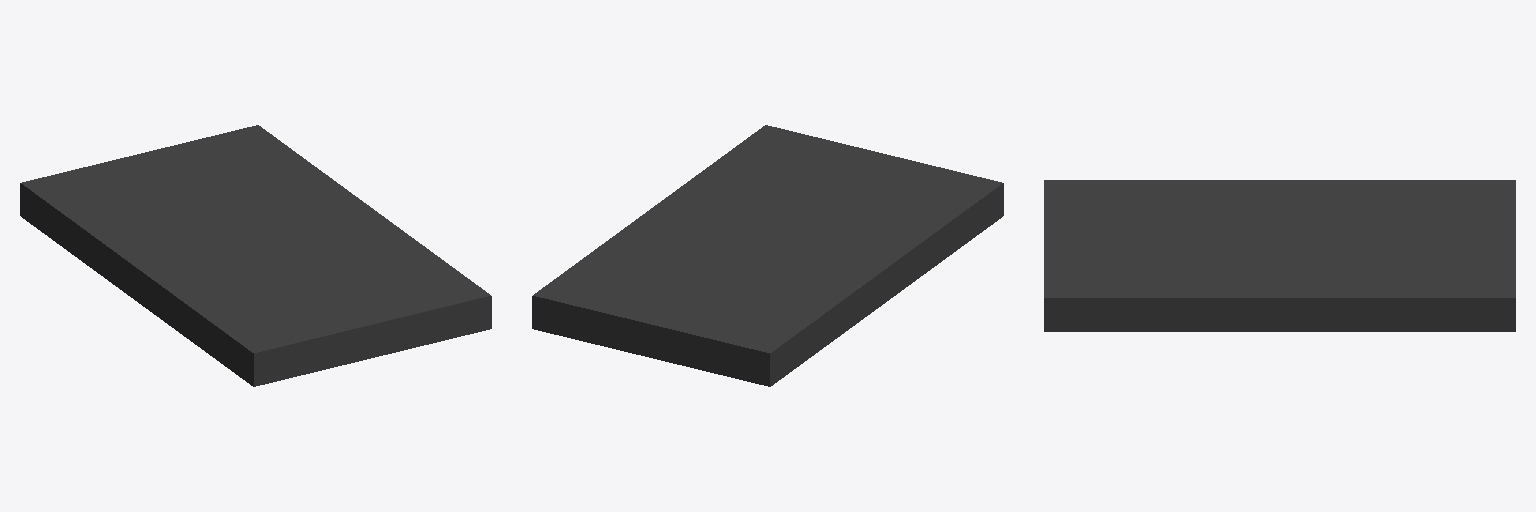
URDF robot description (box.urdf):
<?xml version="1.0" ?>
<robot name="box.urdf">
  <link name="baseLink">
    <contact>
      <lateral_friction value="1.0"/>
      <rolling_friction value="0.0001"/>
      <inertia_scaling value="3.0"/>
    </contact>
    <inertial>
      <origin rpy="0 0 0" xyz="0 0 0"/>
       <mass value="0.1"/>
       <inertia ixx="1" ixy="0" ixz="0" iyy="1" iyz="0" izz="1"/>
    </inertial>
    <visual>
      <origin rpy="0 0 0" xyz="0 0 0"/>
      <geometry>
        <!-- <box size="0.315 0.535 0.0425"/> -->
        <mesh filename="box/box.obj" scale="0.315 0.535 0.0425"/>
      </geometry>
      <material name="white">
        <color rgba="0.3 0.3 0.3 1"/>
      </material>
    </visual>
    <collision>
      <origin rpy="0 0 0" xyz="0 0 0"/>
      <geometry>
        <mesh filename="box/box.obj" scale="0.315 0.535 0.0425"/>
	 	    <!-- <box size="0.315 0.535 0.0425"/> -->
      </geometry>
    </collision>
  </link>
</robot>

--- Facts derived from the render (not from the file) ---
The picture shows the robot from 3 angles, left to right: view 1: azimuth 30°, elevation 25°; view 2: azimuth 150°, elevation 25°; view 3: azimuth 270°, elevation 25°; orthographic projection.
Model box.urdf with 1 links and 0 joints (none), rooted at baseLink, posed every joint at zero.
Links seen in each view (by area): view 1: baseLink; view 2: baseLink; view 3: baseLink.
Link boxes in pixels (x1,y1,x2,y2): baseLink: (20,125,491,386); baseLink: (532,125,1003,386); baseLink: (1044,180,1515,331).
Size in the robot's own frame: 0.315 by 0.535 by 0.0425 metres.
Meshes: 1 distinct files referenced, 1 mesh visuals loaded (1 OBJ).
